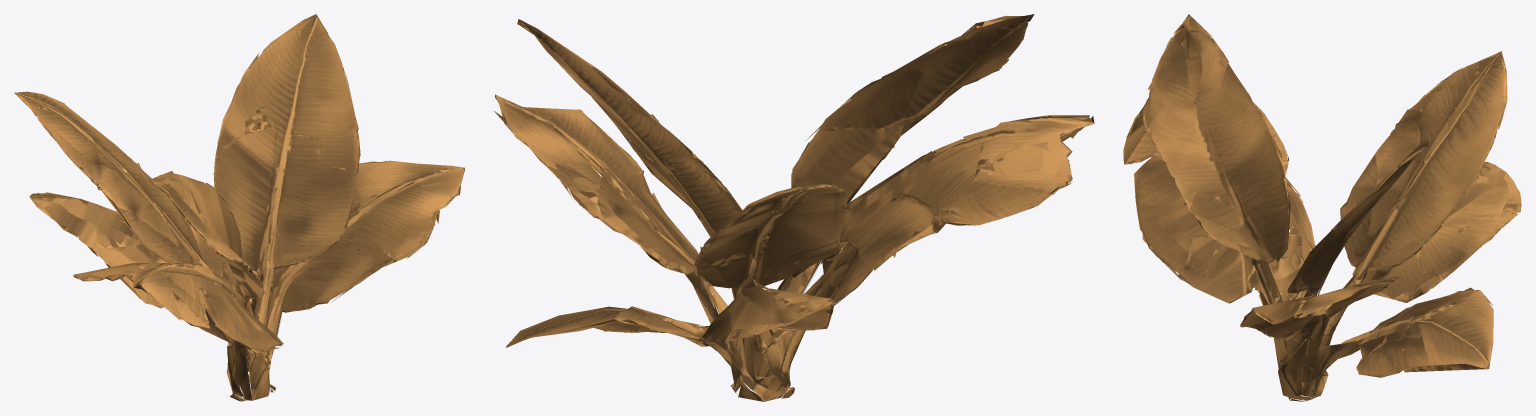
File: turtle-s04-top-brown.glb
3 renders of one model, left to right at view 1: azimuth 30°, elevation 25°; view 2: azimuth 150°, elevation 25°; view 3: azimuth 270°, elevation 25°, orthographic. The views are drawn at different scales.
Visible parts, largest first — view 1: Mesh_0; view 2: Mesh_0; view 3: Mesh_0.
Part boxes in pixels (box(x1,y1,x2,y2)): Mesh_0: box(14, 14, 464, 401); Mesh_0: box(494, 14, 1094, 401); Mesh_0: box(1123, 14, 1521, 401).
Size of the model in its own units: 0.1 by 0.0691 by 0.0799.
Materials: 1 (1 with a texture image).
